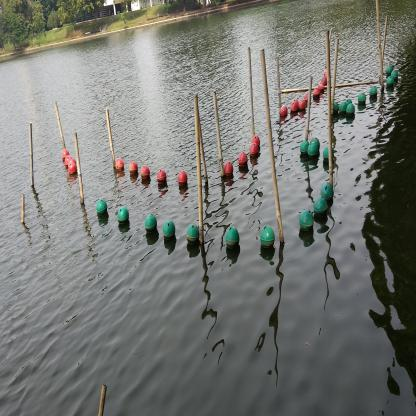green_buoy: (224, 223, 241, 254), (312, 195, 330, 224), (259, 224, 276, 254), (300, 210, 314, 238), (186, 223, 200, 250), (163, 218, 176, 245), (94, 199, 109, 220), (321, 182, 334, 205), (118, 205, 130, 229), (145, 214, 157, 237), (308, 144, 318, 166), (323, 148, 336, 164), (356, 90, 367, 107), (300, 143, 309, 162), (338, 100, 346, 121), (347, 102, 356, 119), (370, 85, 378, 102), (385, 76, 394, 91), (392, 70, 399, 82), (386, 66, 392, 76)
red_buoy: (157, 167, 168, 189), (178, 169, 188, 189), (140, 163, 149, 184), (128, 160, 138, 177), (239, 154, 249, 171), (225, 159, 234, 177), (317, 78, 326, 96), (115, 156, 123, 175), (70, 163, 78, 181), (250, 142, 258, 160), (298, 99, 307, 115), (290, 99, 297, 119), (252, 133, 262, 146), (280, 106, 288, 119), (314, 88, 320, 102)
